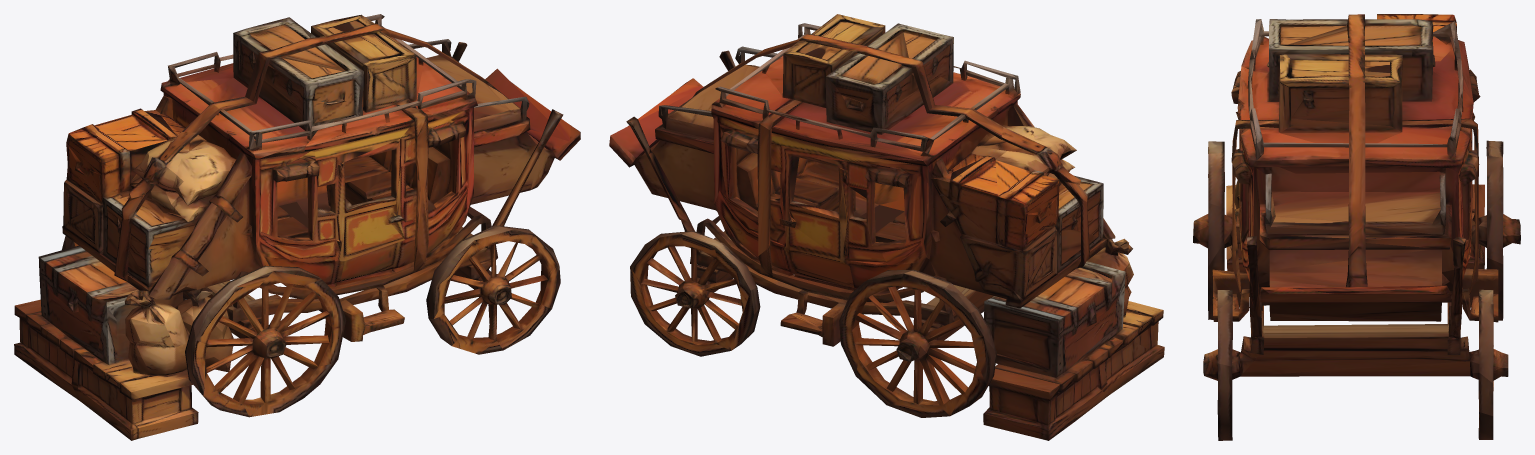
Rendered from diligence_shell.glb.
3 renders of one model, left to right at view 1: azimuth 30°, elevation 25°; view 2: azimuth 150°, elevation 25°; view 3: azimuth 270°, elevation 25°, orthographic. The views are drawn at different scales.
Visible parts, largest first — view 1: wl_diligence; view 2: wl_diligence; view 3: wl_diligence.
Part boxes in pixels (box(x1,y1,x2,y2)): wl_diligence: box(14, 14, 580, 440); wl_diligence: box(609, 14, 1164, 440); wl_diligence: box(1193, 14, 1520, 440).
Size of the model in its own units: 5.6 by 3.4 by 3.05.
1 material, 1 textured.
